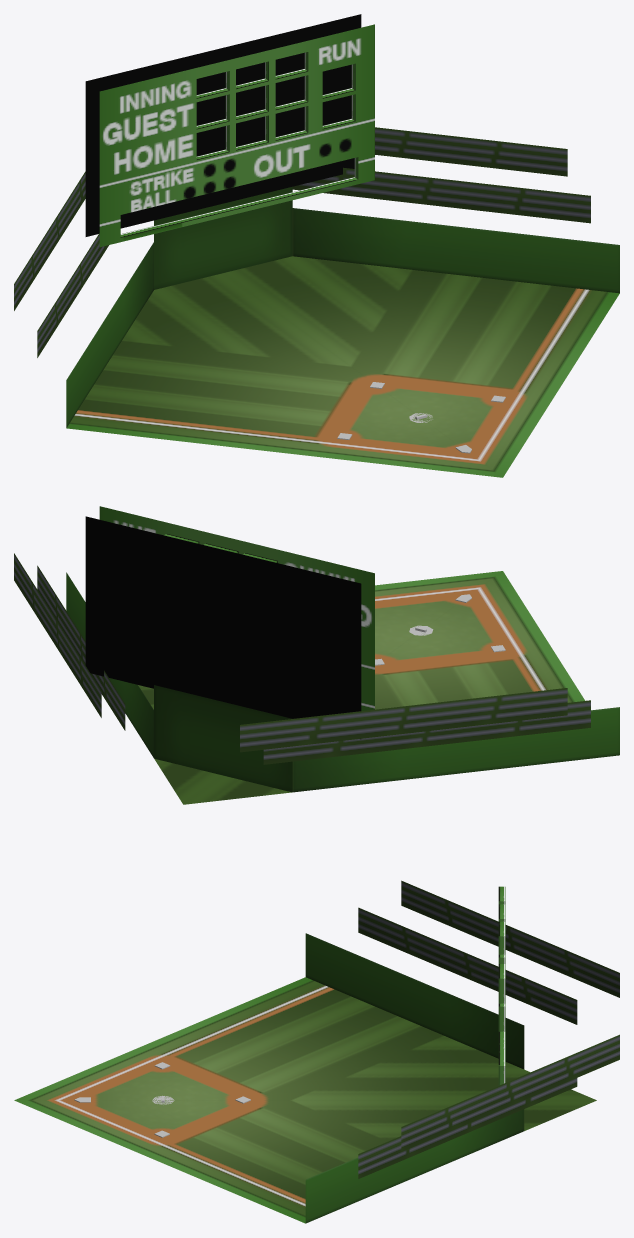
File: default_stadium.dae
3 views of the same model, one above another, from view 1: azimuth 30°, elevation 25°; view 2: azimuth 150°, elevation 25°; view 3: azimuth 270°, elevation 25° (orthographic). The views are drawn at different scales.
Visible parts, largest first — view 1: Mesh_X_Stadium, Mesh_X_Scoreboard; view 2: Mesh_X_Stadium, Mesh_X_Scoreboard; view 3: Mesh_X_Stadium, Mesh_X_Scoreboard.
Part boxes in pixels (x1,y1,x2,y2): Mesh_X_Stadium: [14, 127, 619, 477]; Mesh_X_Scoreboard: [85, 14, 374, 247]; Mesh_X_Stadium: [14, 553, 619, 804]; Mesh_X_Scoreboard: [85, 506, 374, 739]; Mesh_X_Stadium: [14, 880, 619, 1223]; Mesh_X_Scoreboard: [498, 886, 505, 1085].
Size of the model in its own units: 52.56 by 20.49 by 54.6.
2 materials, 1 textured.
